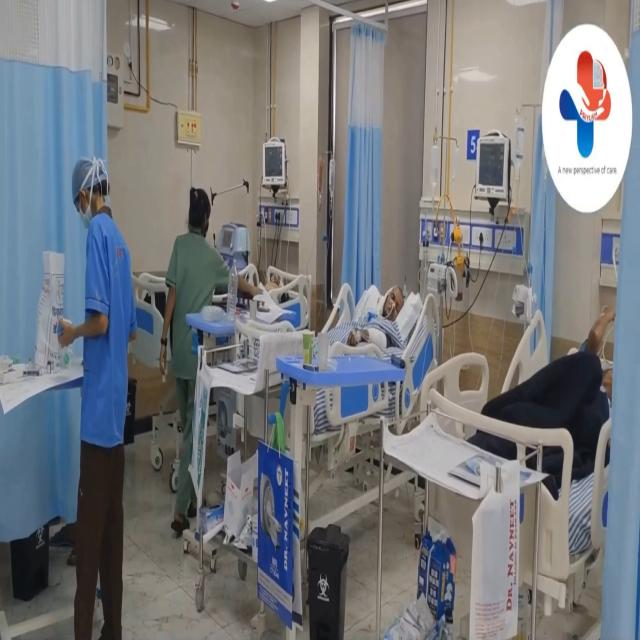Movement-Yes: (562, 294, 614, 442)
